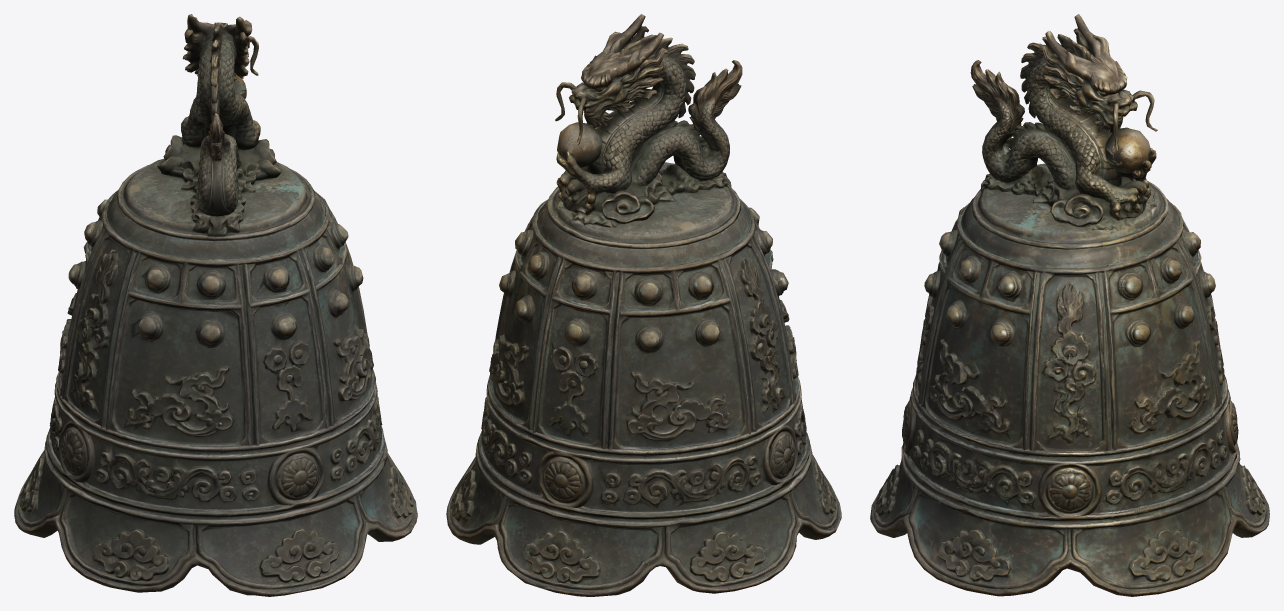
The picture shows the model from 3 angles, left to right: view 1: azimuth 30°, elevation 25°; view 2: azimuth 150°, elevation 25°; view 3: azimuth 270°, elevation 25°; orthographic projection. The views are drawn at different scales.
Visible parts, largest first — view 1: tripo_node_89c23f7e-ea3a-43e7-a19a-185e50c19181; view 2: tripo_node_89c23f7e-ea3a-43e7-a19a-185e50c19181; view 3: tripo_node_89c23f7e-ea3a-43e7-a19a-185e50c19181.
Part boxes in pixels (x1,y1,x2,y2): tripo_node_89c23f7e-ea3a-43e7-a19a-185e50c19181: [14, 14, 417, 596]; tripo_node_89c23f7e-ea3a-43e7-a19a-185e50c19181: [446, 14, 841, 596]; tripo_node_89c23f7e-ea3a-43e7-a19a-185e50c19181: [870, 14, 1269, 596].
Size of the model in its own units: 0.6761 by 0.9792 by 0.7101.
1 material, 1 textured.
